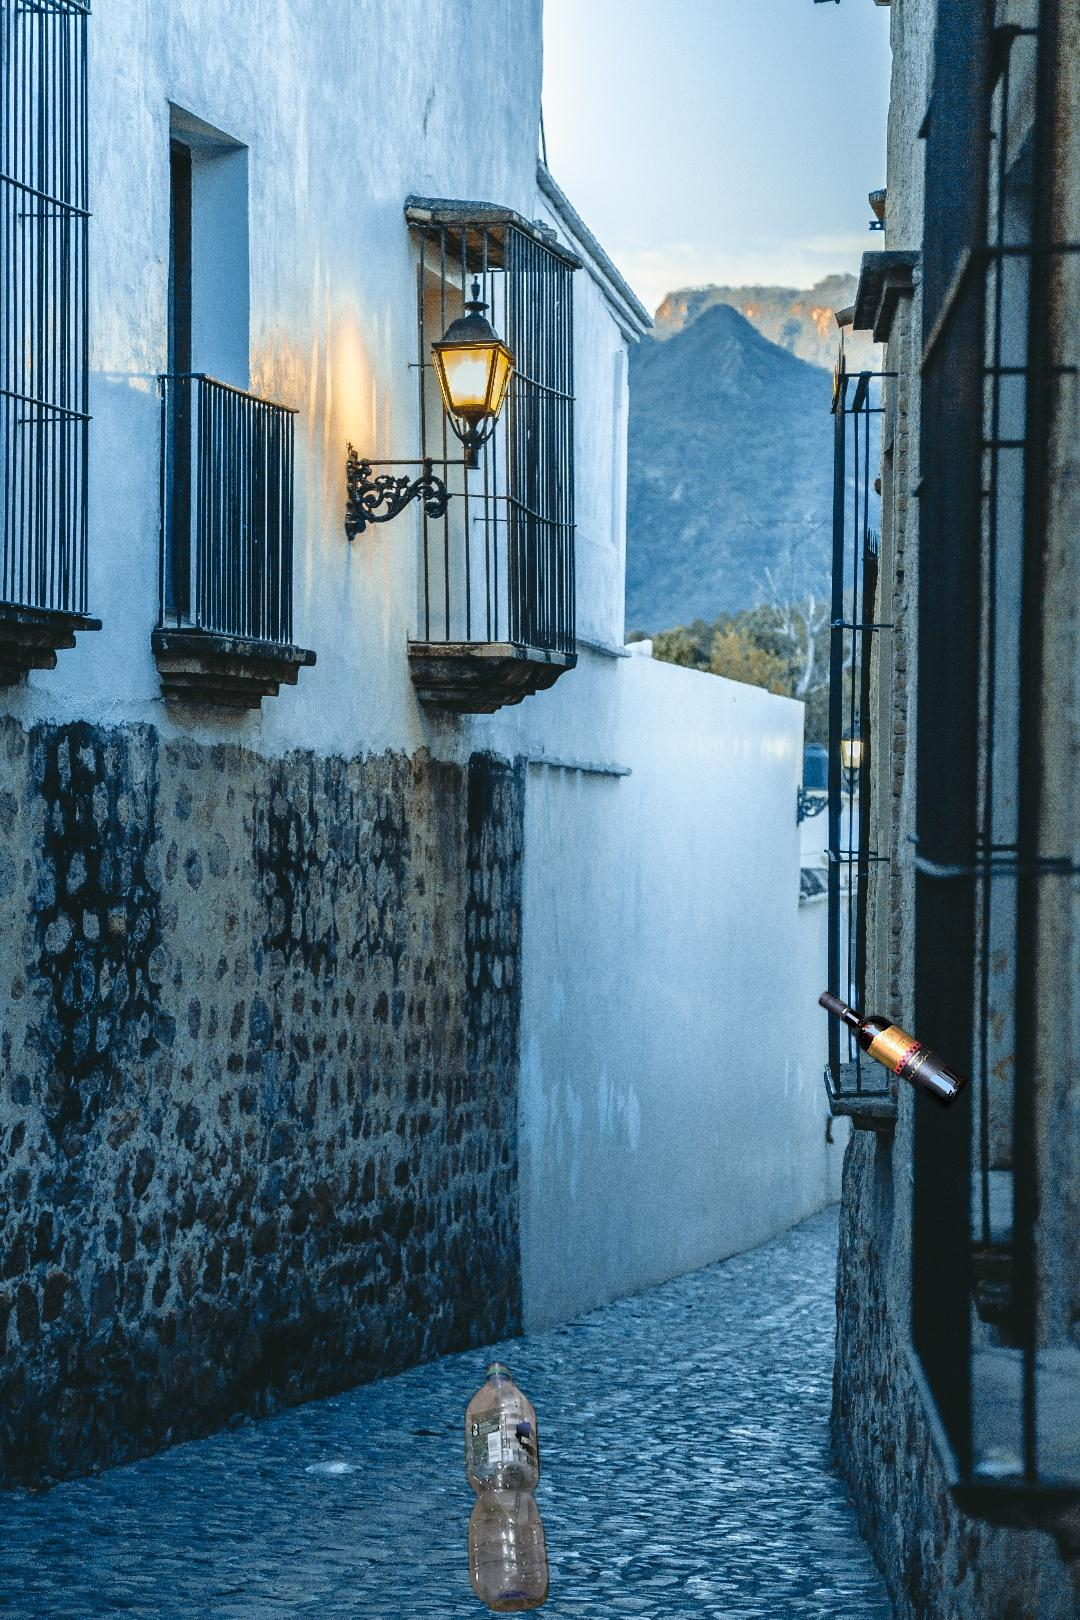glass: (814, 985, 973, 1115)
plastic-bottles: (460, 1357, 553, 1618)
